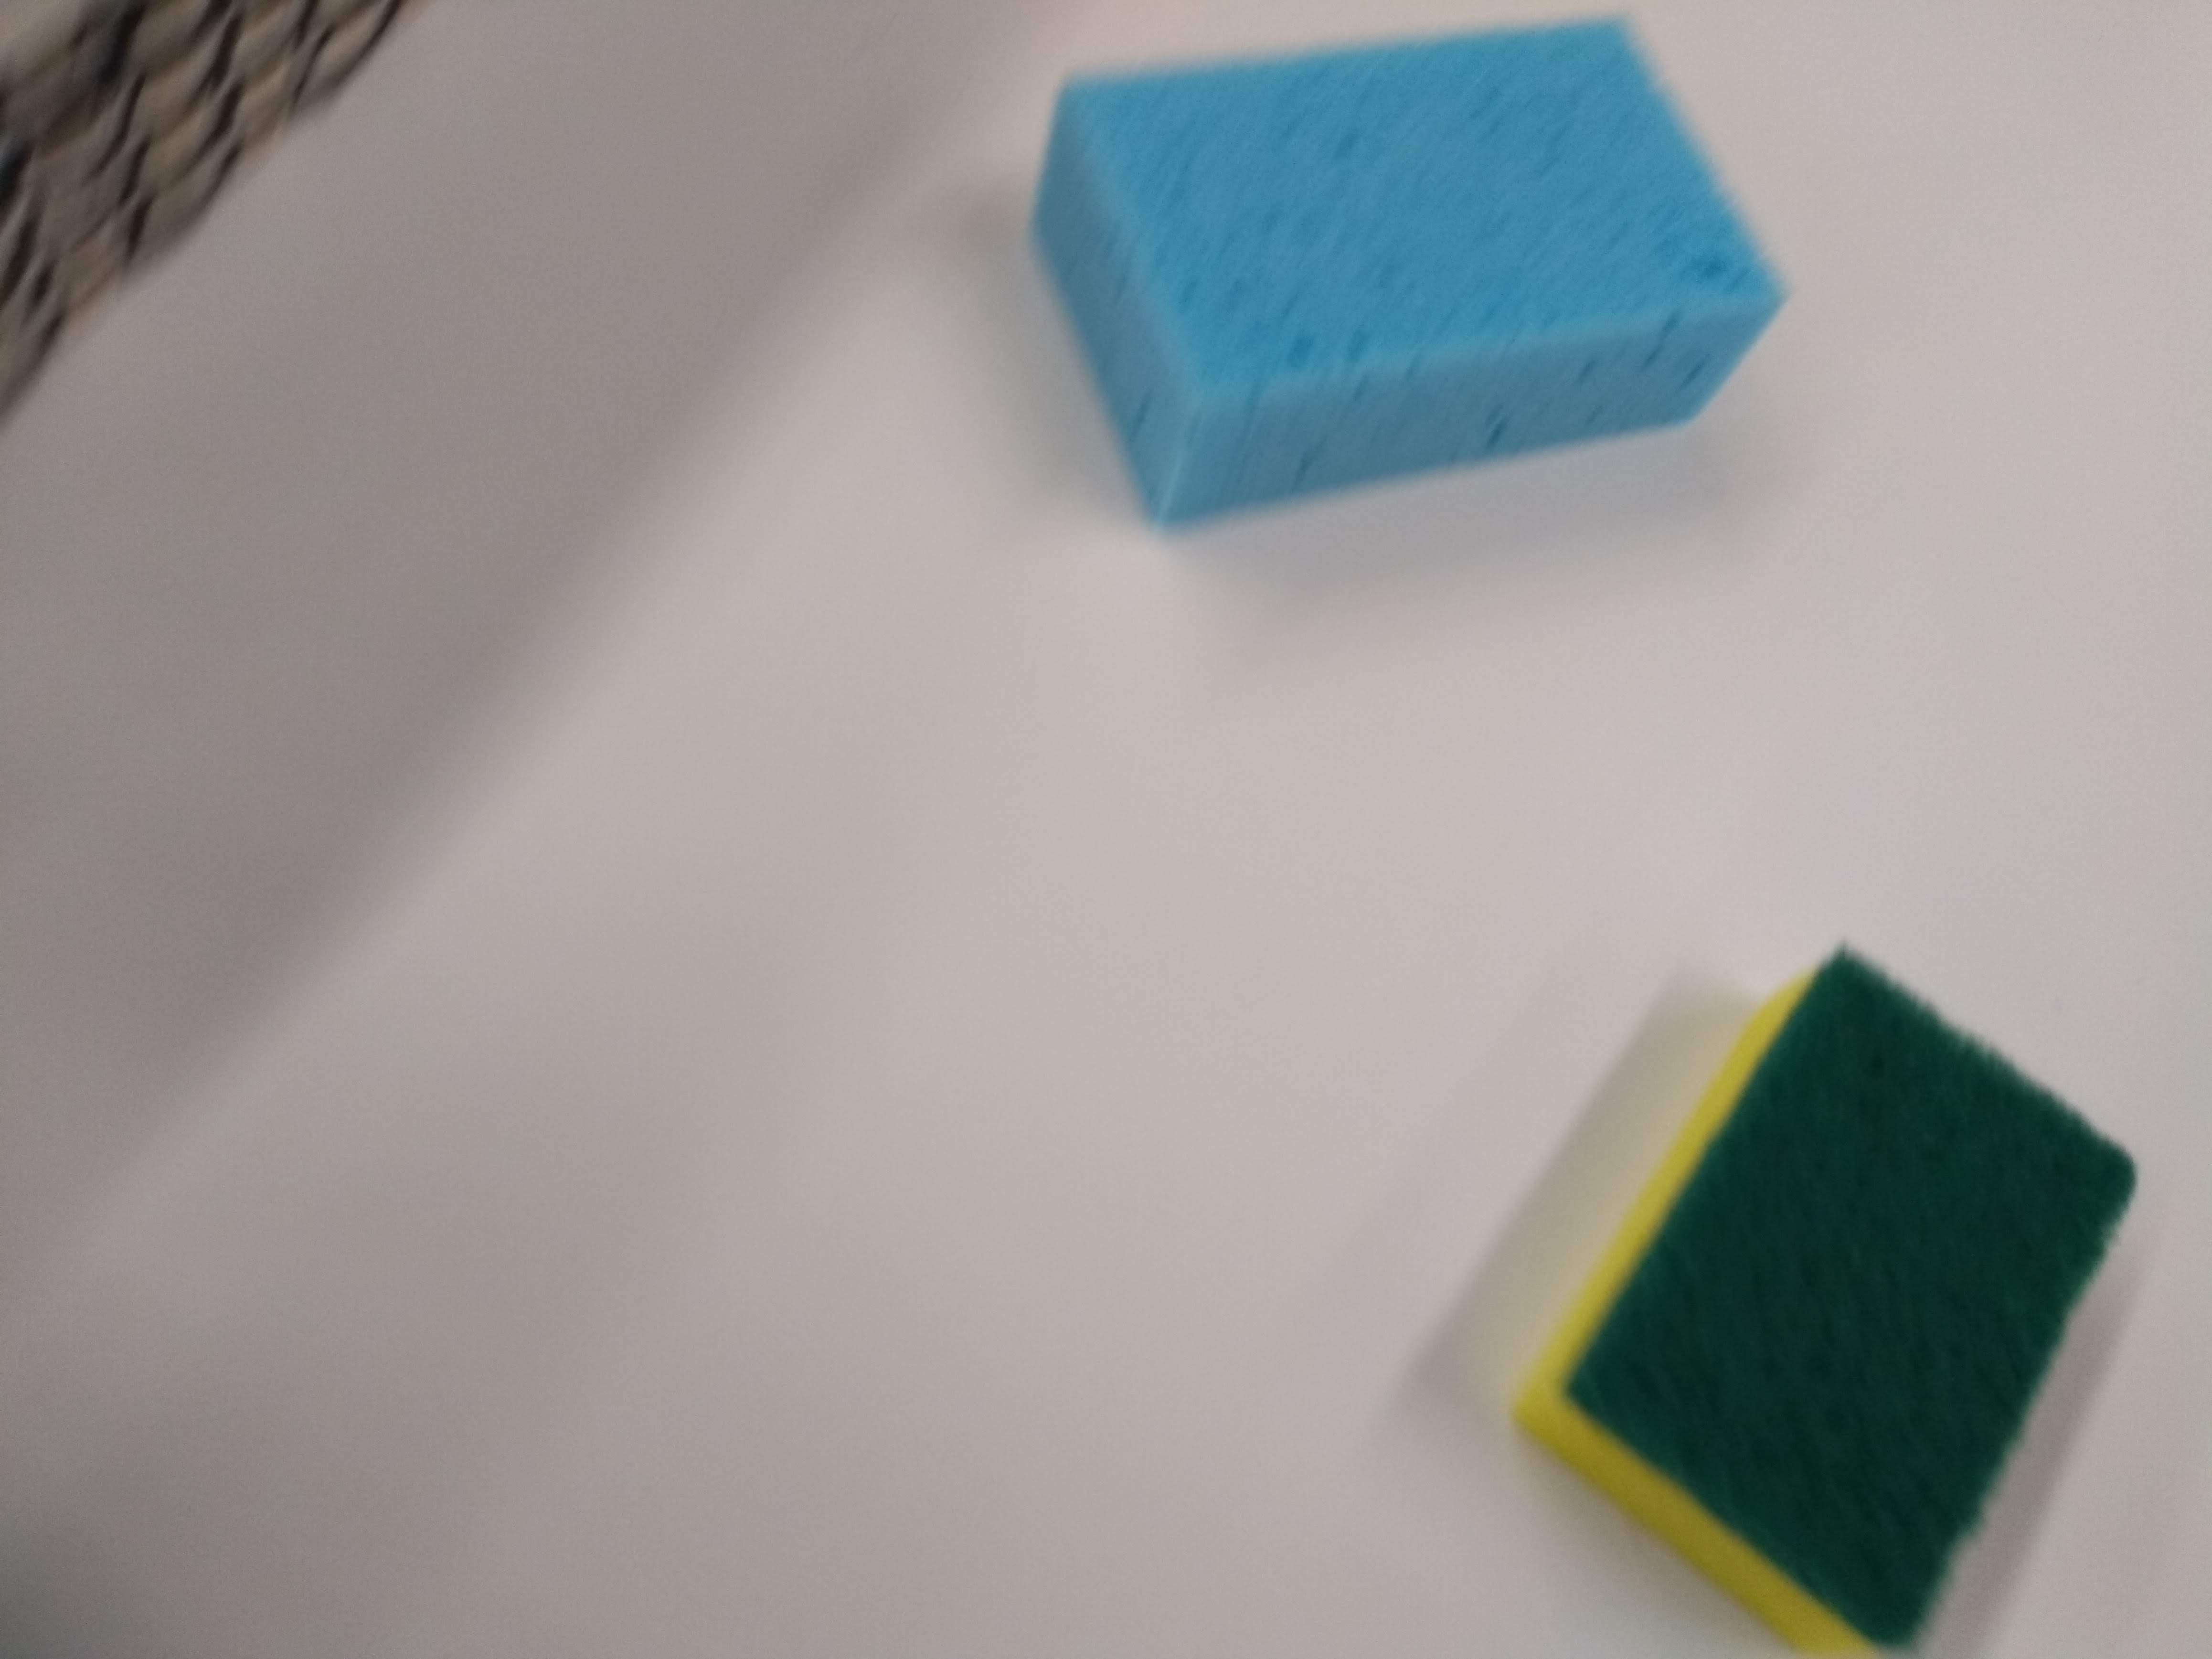scrubby: (1468, 929, 2142, 1659)
sponge_opl: (996, 0, 1808, 544)
